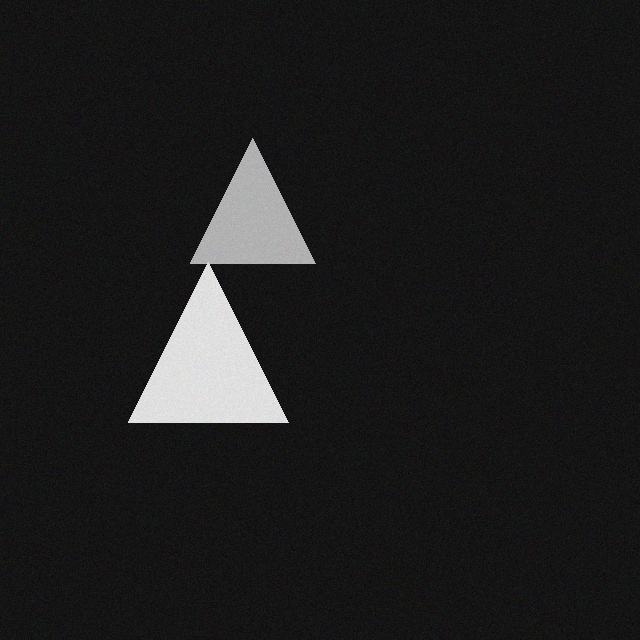triangle: (117, 256, 277, 416), (179, 132, 304, 257)
